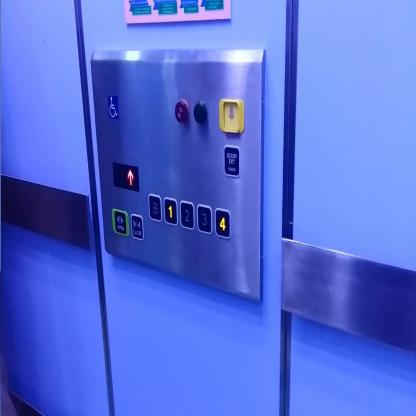1: (163, 194, 178, 225)
2: (180, 200, 194, 229)
3: (196, 202, 212, 233)
4: (214, 207, 231, 238)
B: (148, 193, 162, 221)
CH: (107, 94, 119, 119)
alarm: (219, 98, 244, 133)
close: (130, 212, 144, 241)
empty: (193, 100, 207, 124)
led: (112, 162, 140, 193)
open: (111, 208, 129, 236)
text: (224, 144, 240, 176)
unknown: (175, 99, 188, 124)
